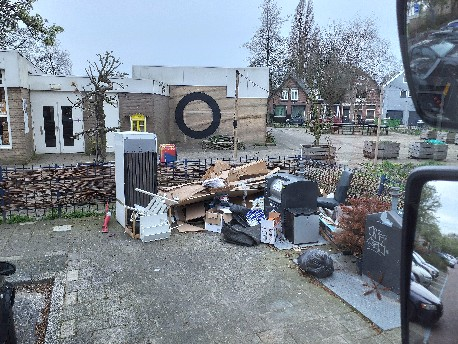Container: (268, 172, 321, 236)
Papier: (212, 165, 238, 223), (174, 178, 212, 216), (224, 158, 265, 185)
Rest: (114, 128, 170, 243), (211, 206, 258, 249), (323, 174, 354, 221), (293, 249, 334, 275)
